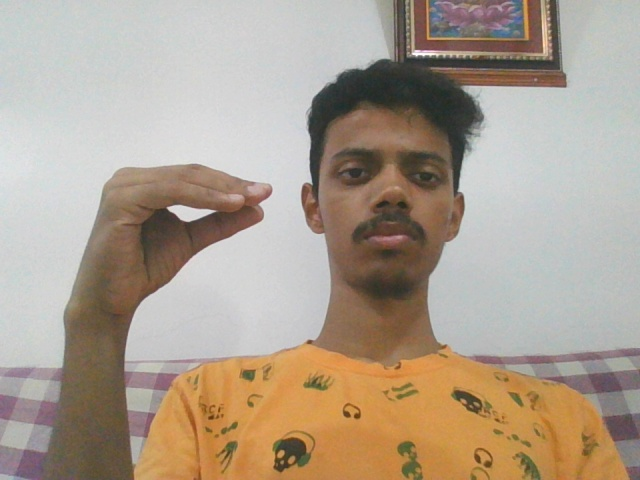No: (75, 164, 273, 296)
